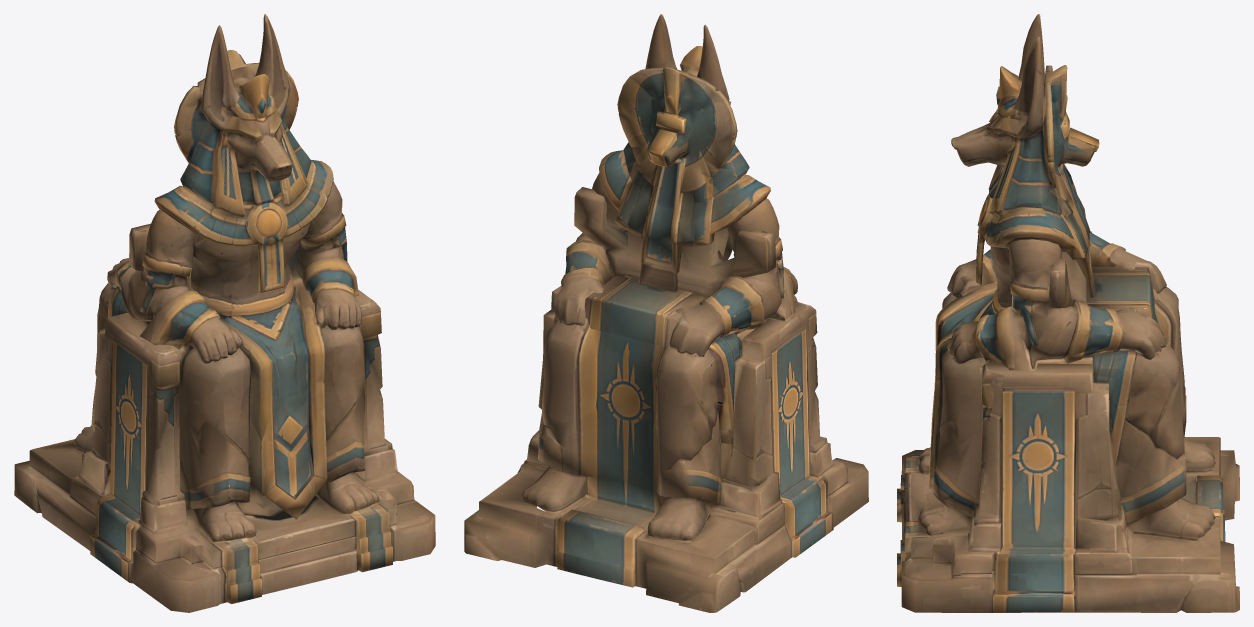
Rendered from SM_Tripo_DesertColossus.glb.
3 renders of one model, left to right at view 1: azimuth 30°, elevation 25°; view 2: azimuth 150°, elevation 25°; view 3: azimuth 270°, elevation 25°, orthographic. The views are drawn at different scales.
Visible parts, largest first — view 1: SM_Tripo_DesertColossus_LOD0; view 2: SM_Tripo_DesertColossus_LOD0; view 3: SM_Tripo_DesertColossus_LOD0.
Part boxes in pixels (bbox=[...]): SM_Tripo_DesertColossus_LOD0: bbox=[14, 14, 435, 612]; SM_Tripo_DesertColossus_LOD0: bbox=[464, 14, 868, 612]; SM_Tripo_DesertColossus_LOD0: bbox=[897, 14, 1239, 612].
Size of the model in its own units: 8.76 by 16 by 9.53.
1 material, 1 textured.
